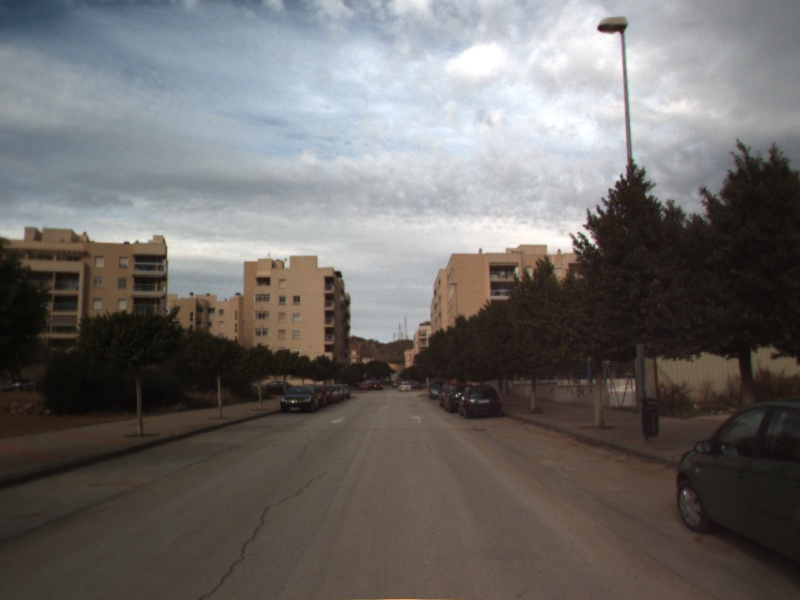STRAIGHT: (409, 413, 427, 425)
